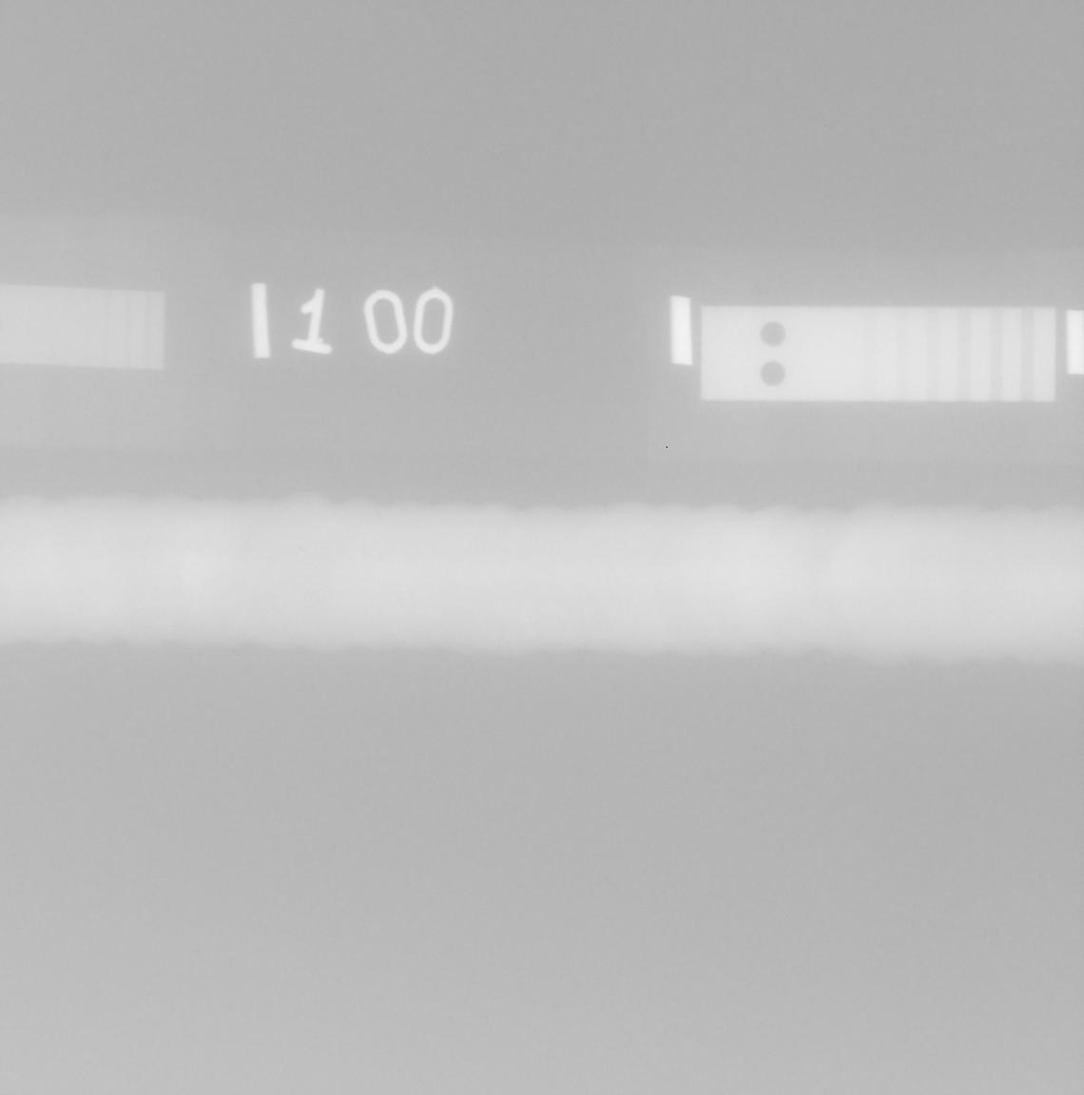Reference Standard 2: (700, 306, 1056, 402)
